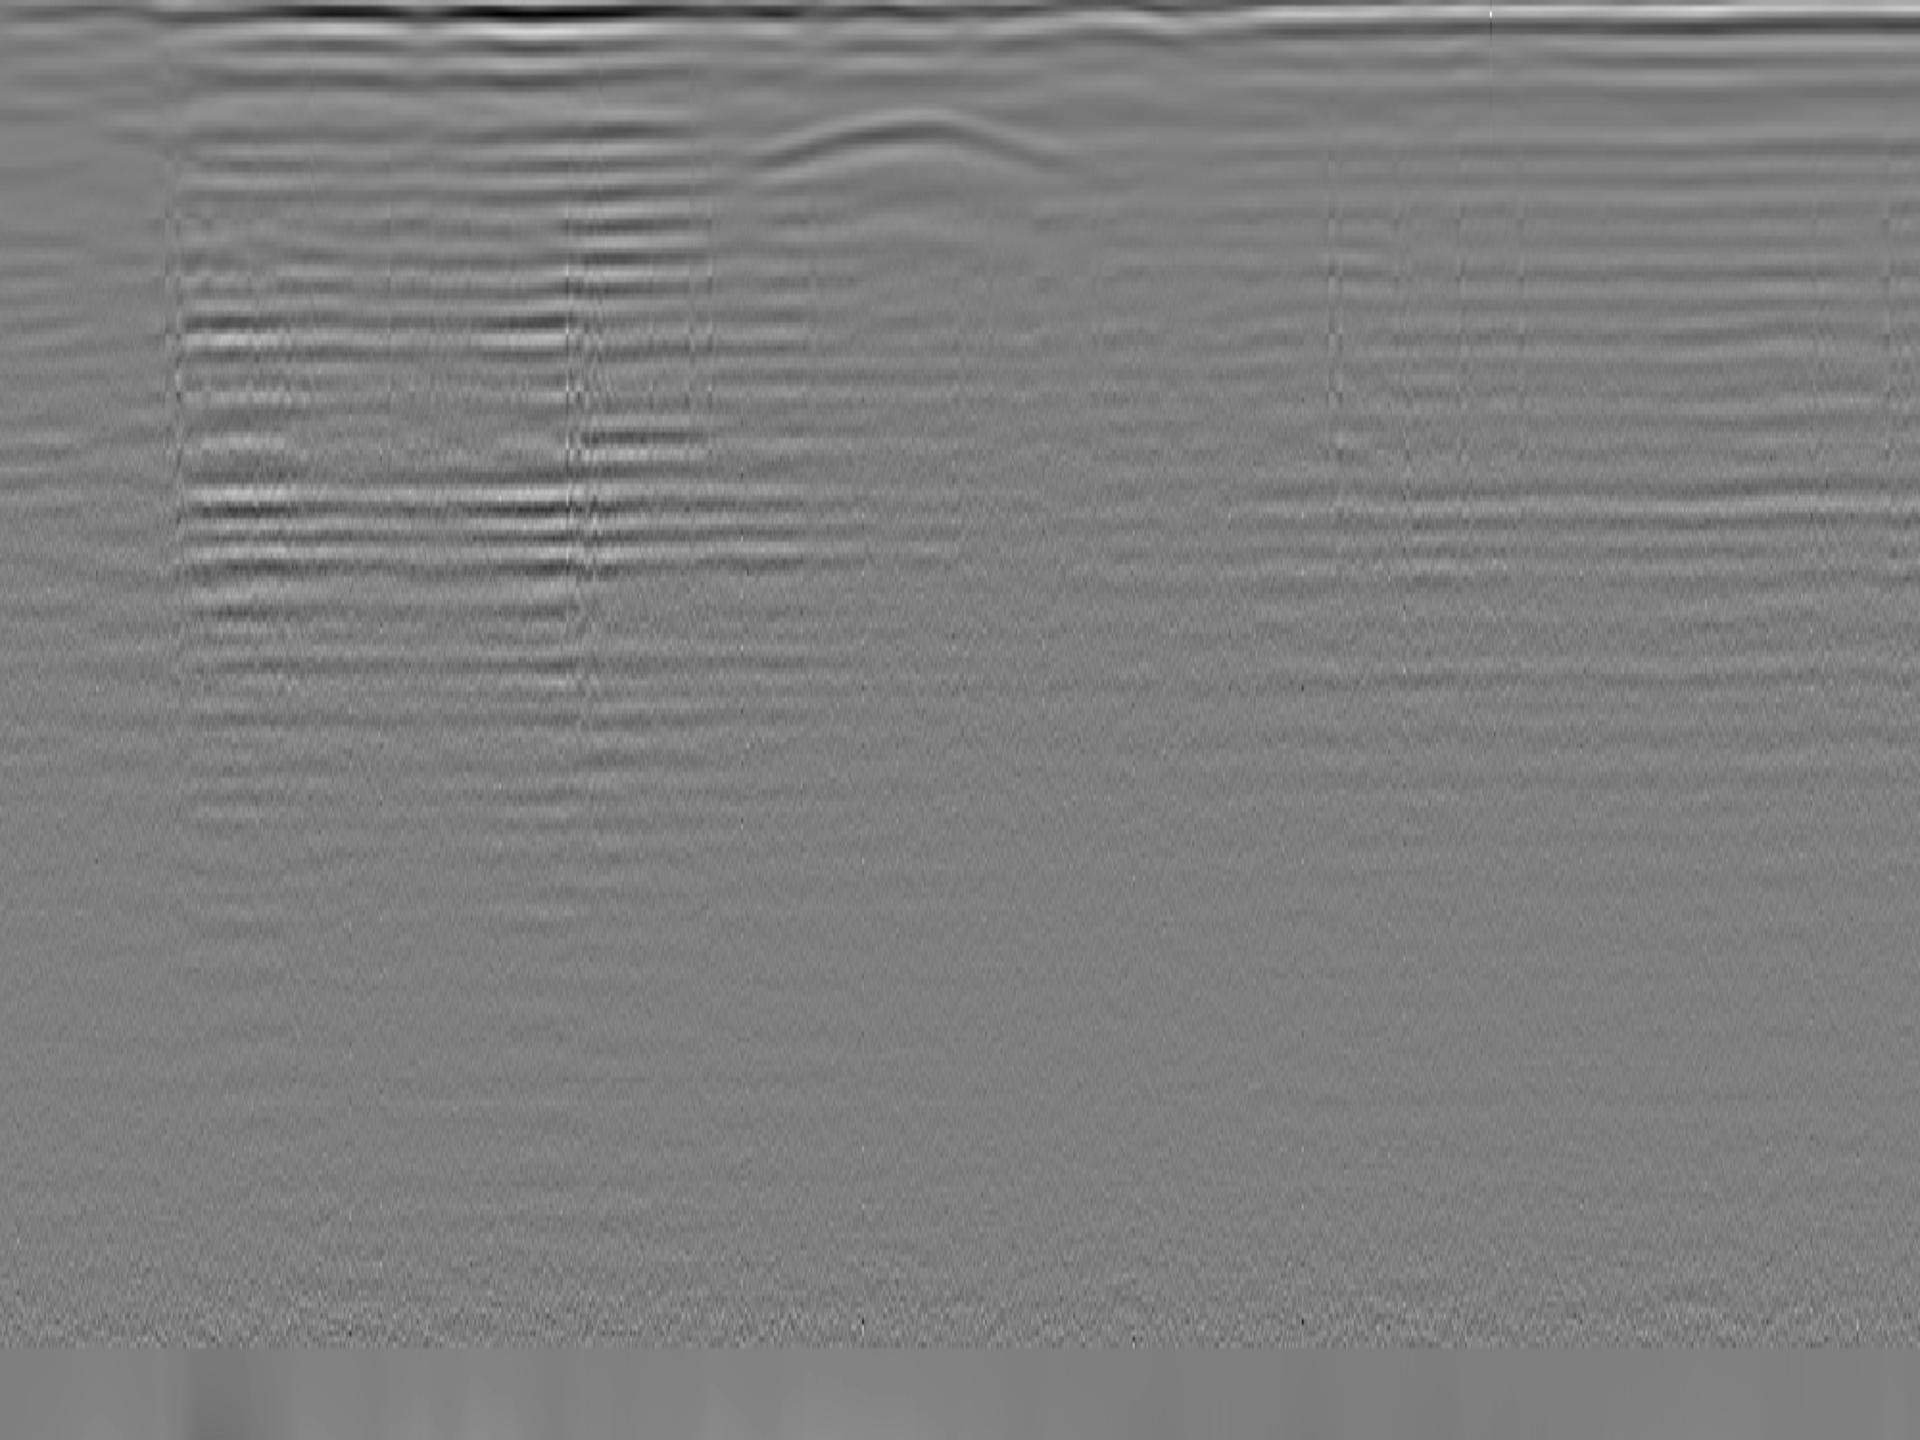Tunnel: (753, 106, 1101, 182)
